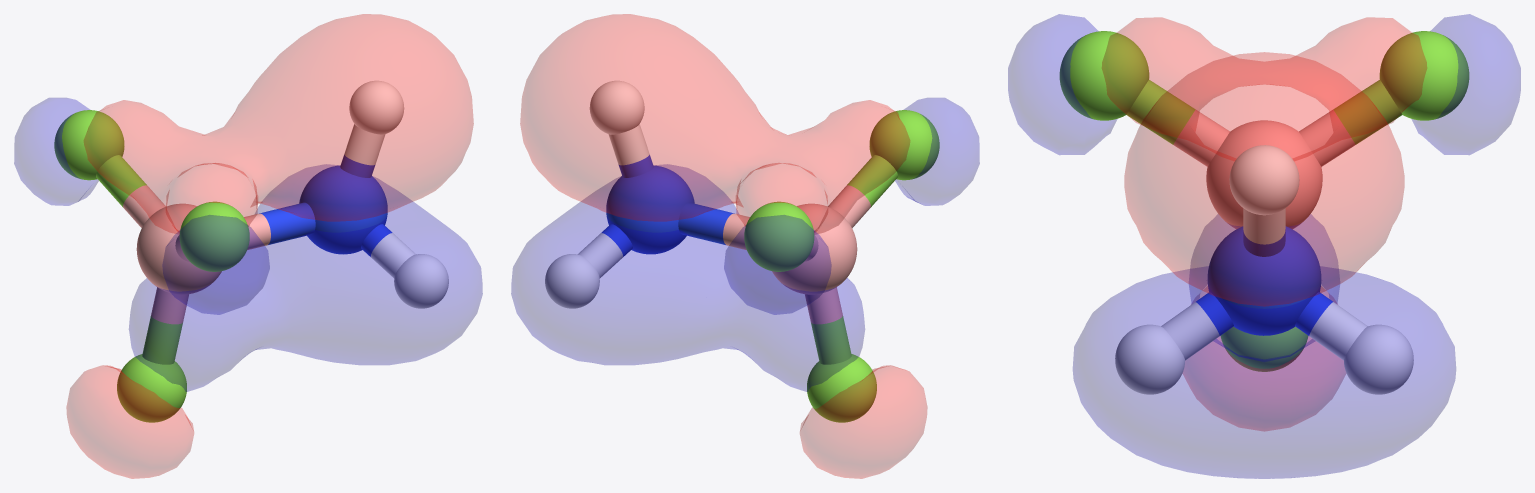
3 views of the same model, side by side, from view 1: azimuth 30°, elevation 25°; view 2: azimuth 150°, elevation 25°; view 3: azimuth 270°, elevation 25° (orthographic). The views are drawn at different scales.
Parts seen in each view (by area): view 1: surface (×2), atoms, bonds; view 2: surface (×2), atoms, bonds; view 3: surface (×2), atoms, bonds.
Part boxes in pixels (x1,y1,x2,y2): surface (×2): [14, 14, 482, 478]; atoms: [54, 80, 448, 422]; bonds: [96, 124, 415, 364]; surface (×2): [511, 14, 979, 478]; atoms: [545, 80, 939, 422]; bonds: [578, 124, 897, 364]; surface (×2): [1008, 14, 1520, 478]; atoms: [1059, 31, 1469, 394]; bonds: [1126, 79, 1402, 360].
Bounding box in the file's own units: 4.06 × 3.96 × 3.66.
